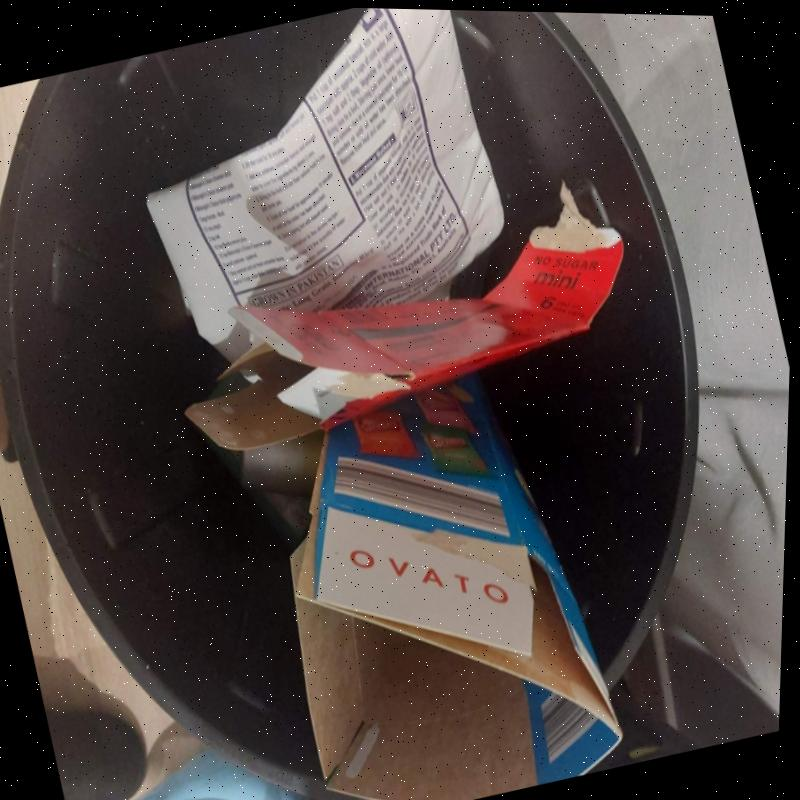cardboard: (287, 373, 620, 800), (181, 181, 622, 452)
paper: (143, 8, 503, 361)
